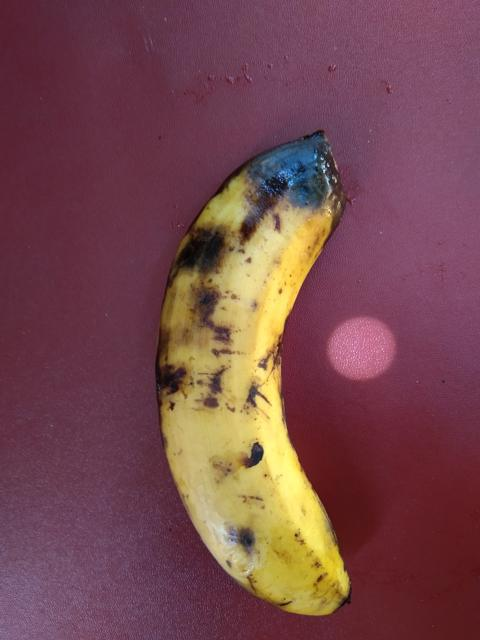overripe: (140, 246, 419, 639)
rotten: (140, 114, 359, 358)
